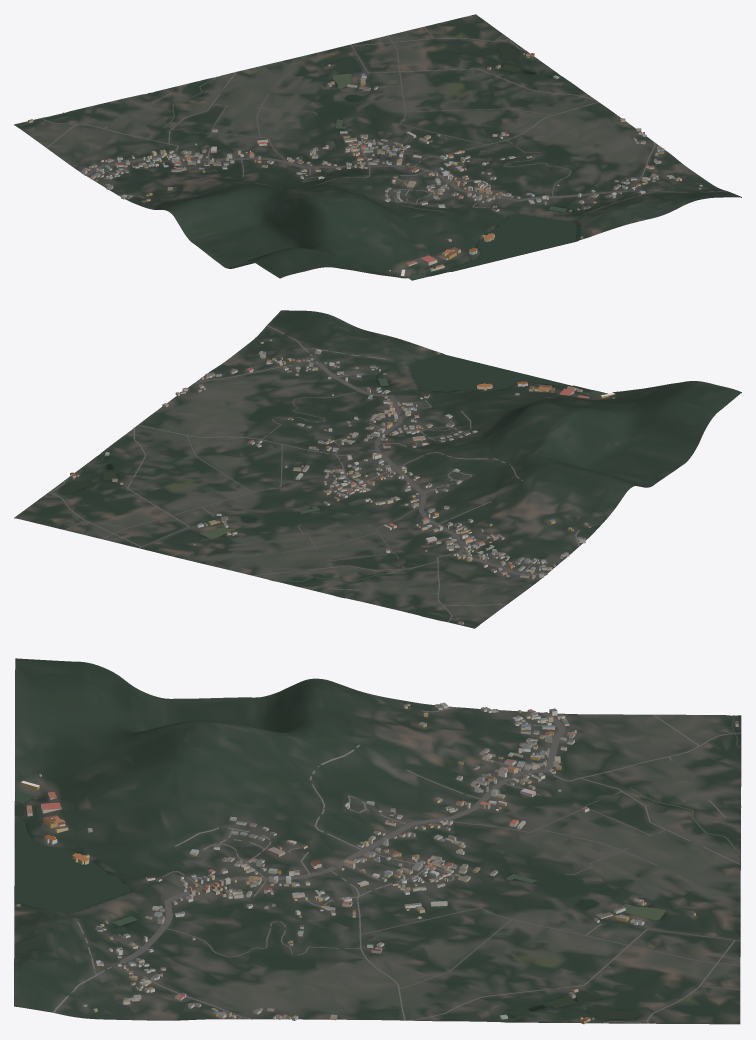
3 views of the same model, one above another, from view 1: azimuth 30°, elevation 25°; view 2: azimuth 150°, elevation 25°; view 3: azimuth 270°, elevation 25° (orthographic). The views are drawn at different scales.
Parts seen in each view (by area): view 1: ground, buildings, water, roads; view 2: ground, buildings, roads, water; view 3: ground, buildings, water, roads.
Boxes of the visible parts, <box> form: ground: <box>14,14,741,280</box>; buildings: <box>28,53,702,278</box>; water: <box>17,44,581,279</box>; roads: <box>40,26,727,211</box>; ground: <box>14,310,741,628</box>; buildings: <box>70,339,615,624</box>; roads: <box>48,325,579,622</box>; water: <box>61,355,607,626</box>; ground: <box>14,658,741,1024</box>; buildings: <box>16,702,738,1024</box>; water: <box>15,715,741,1021</box>; roads: <box>53,707,740,1023</box>.
Size of the model in its own units: 1410 by 140 by 1405.
